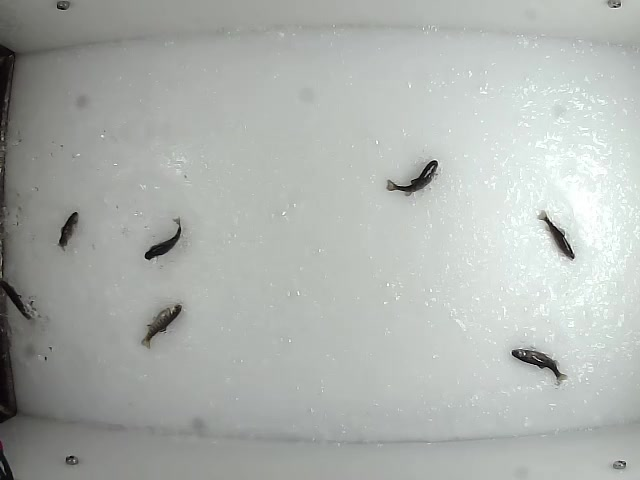fish: (509, 345, 569, 385), (139, 298, 184, 351), (537, 209, 577, 261), (386, 158, 439, 196), (143, 215, 183, 262), (56, 209, 79, 254)
